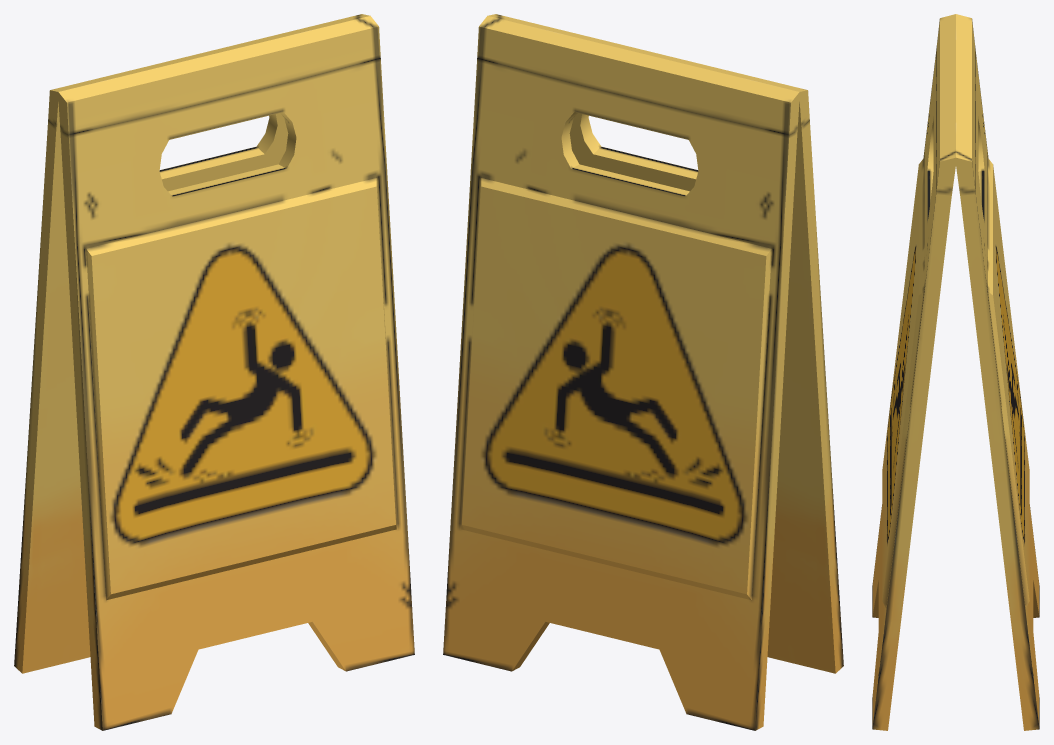
Rendered from WetFloorSign.fbx.
3 renders of one model, left to right at view 1: azimuth 30°, elevation 25°; view 2: azimuth 150°, elevation 25°; view 3: azimuth 270°, elevation 25°, orthographic. The views are drawn at different scales.
Visible parts, largest first — view 1: WetFloorSign; view 2: WetFloorSign; view 3: WetFloorSign.
Boxes of the visible parts, x1,y1,x2,y2 form: WetFloorSign: (14,14,414,730); WetFloorSign: (443,14,843,730); WetFloorSign: (872,14,1039,730).
Bounding box in the file's own units: 57.27 × 107 × 28.16.
